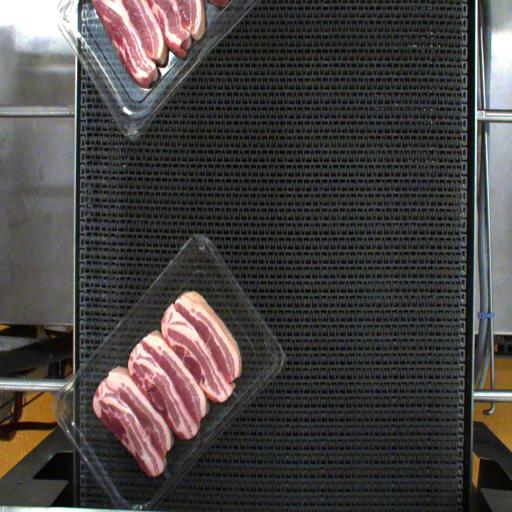packaging-error: (159, 462, 184, 496), (188, 429, 218, 453)
